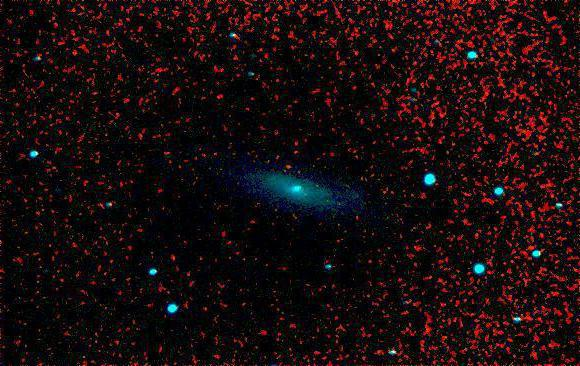star: (273, 151, 303, 181)
